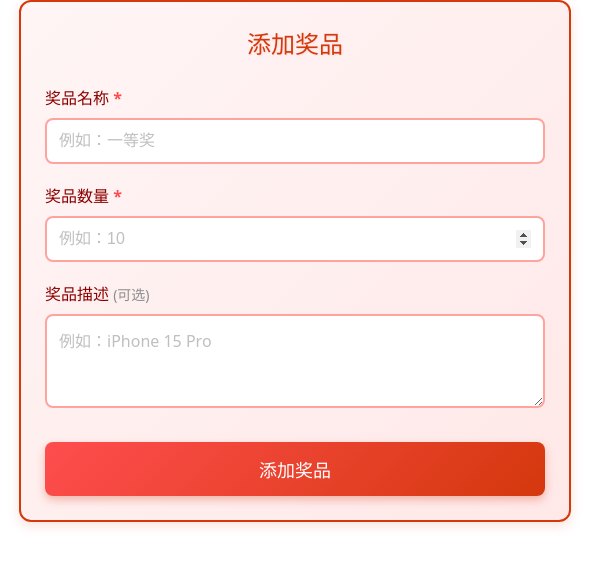
Test: PrizeConfigForm › 实时错误清除 › 当用户修改名称时应该清除名称错误
Type "10" into the number field labelled "奖品数量 *" at (295, 239), box [45,216,545,262]
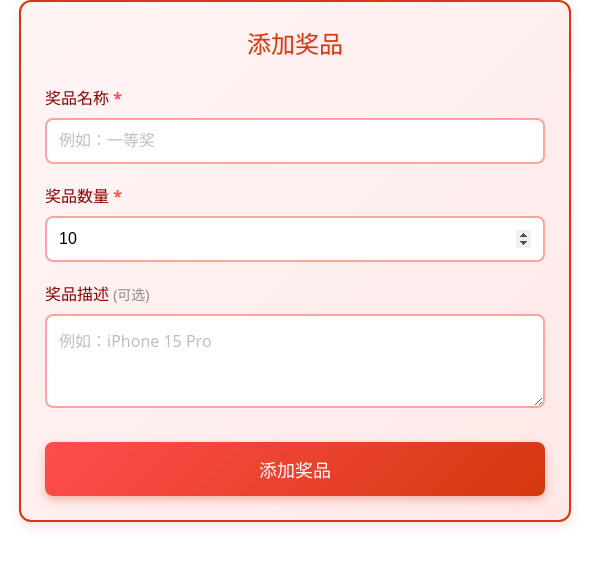
Click the button "添加奖品" at (295, 469), box [45,442,545,496]
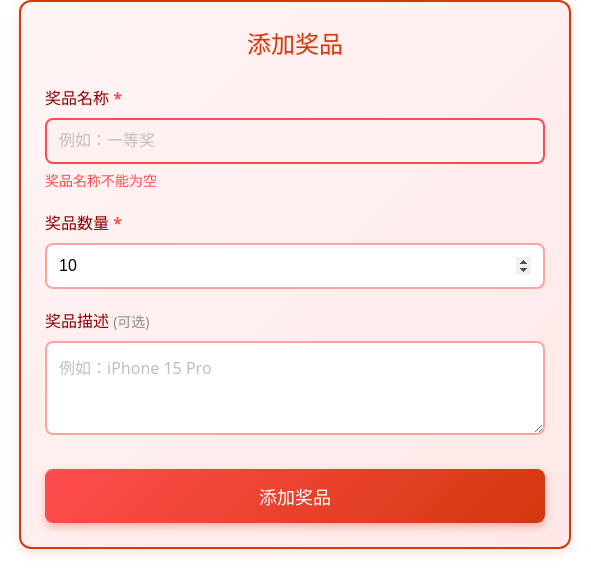
Expected: the text "奖品名称不能为空" is shown, [45,171,157,190]
修改名称应该清除错误
Type "一" into the field labelled "奖品名称 *" at (295, 141), box [45,118,545,164]
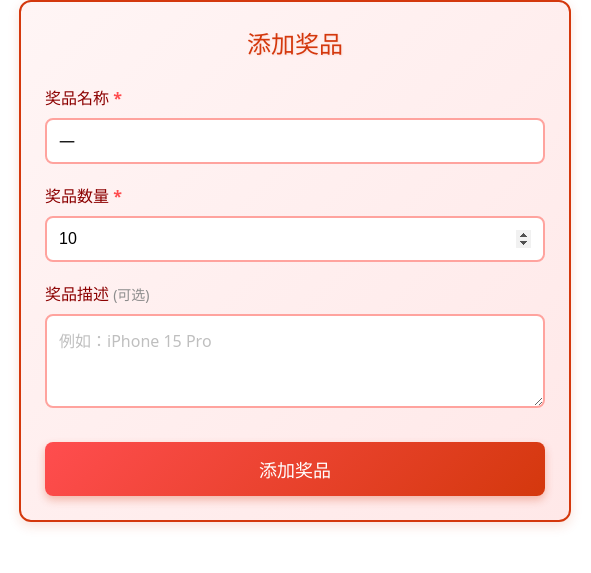
Expected: the text "奖品名称不能为空" is gone
